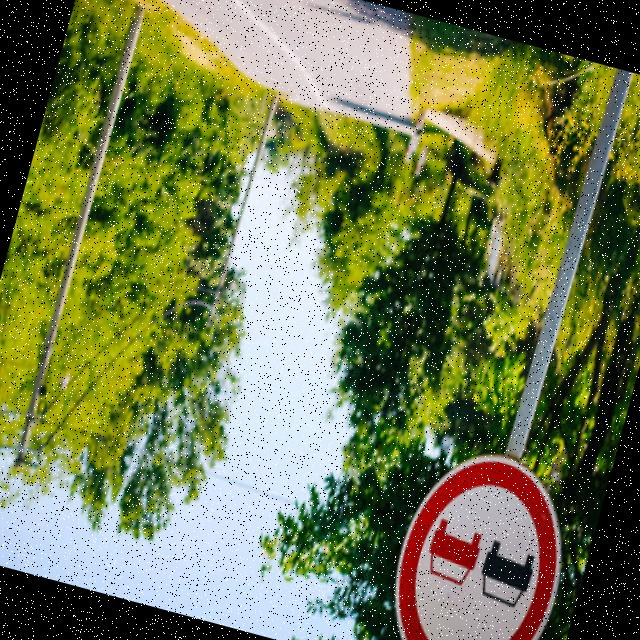no_passing: (356, 422, 597, 640)
